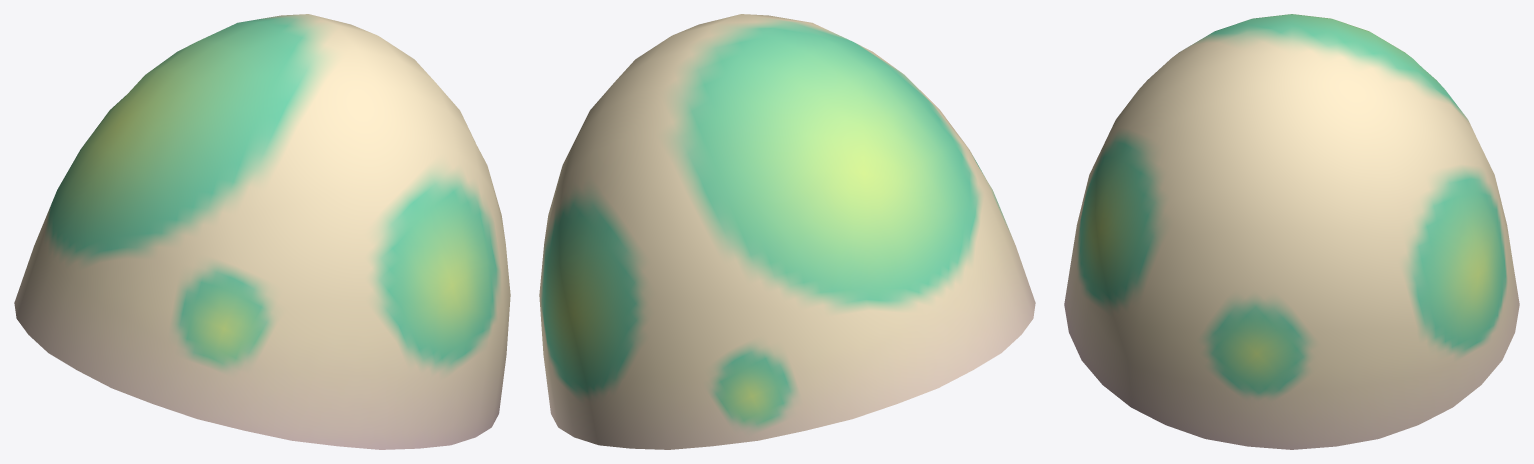
Rendered from stylized_egg_with_animation.fbx.
3 renders of one model, left to right at view 1: azimuth 30°, elevation 25°; view 2: azimuth 150°, elevation 25°; view 3: azimuth 270°, elevation 25°, orthographic. The views are drawn at different scales.
Visible parts, largest first — view 1: egg; view 2: egg; view 3: egg.
Boxes of the visible parts, bbox=[...] form: egg: bbox=[14, 14, 510, 449]; egg: bbox=[539, 14, 1035, 449]; egg: bbox=[1064, 14, 1519, 449].
Size of the model in its own units: 68.13 by 56.89 by 68.31.
